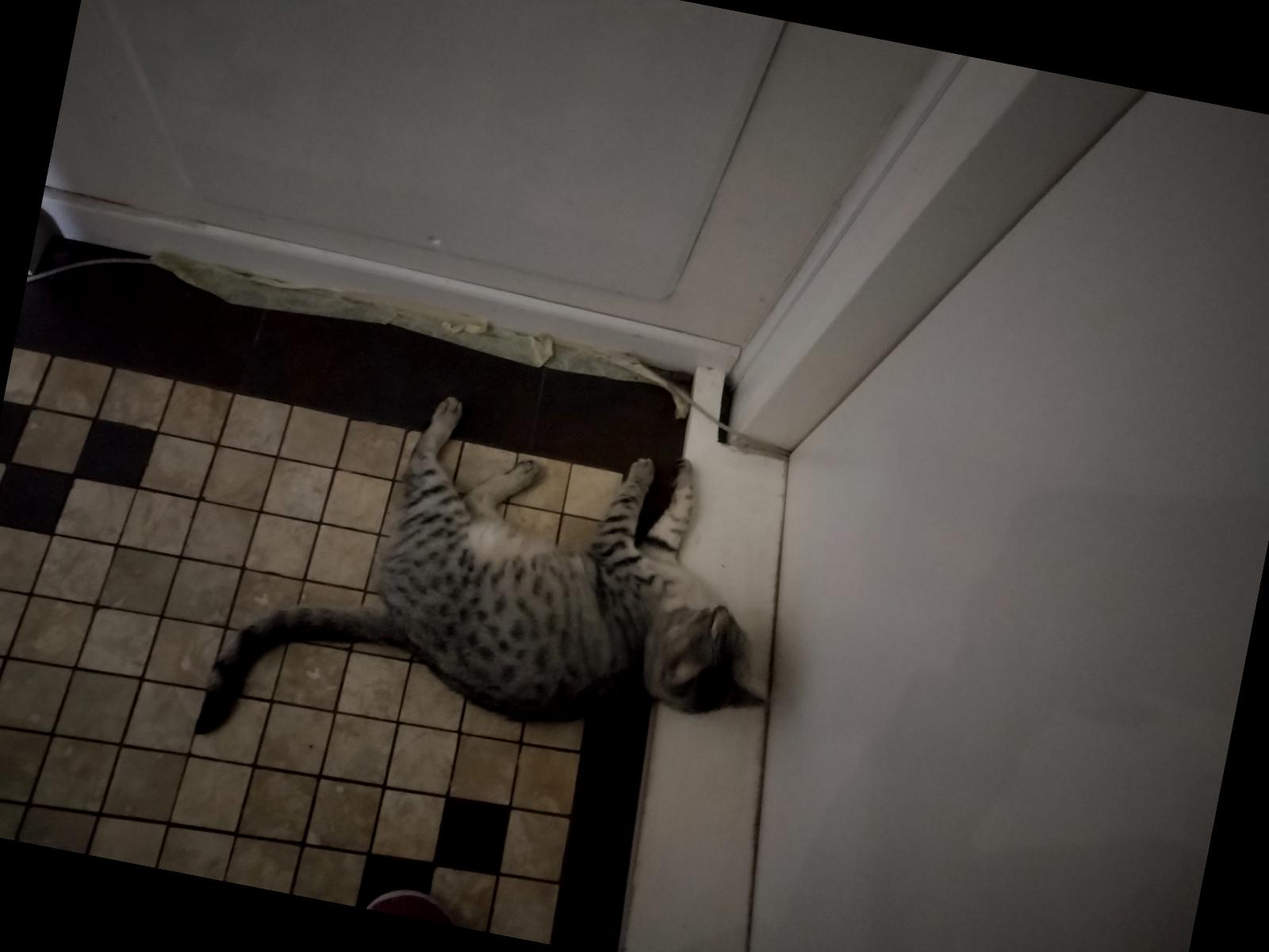macka: (189, 357, 814, 839)
